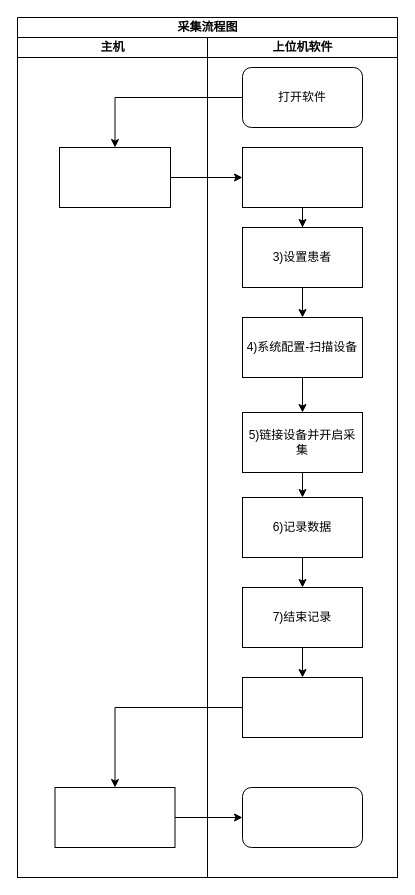
The diagram is 415 pixels wide and 895 high, and some of its shapes have lost their labels. The box of each missing label's shape, as (x1, y1, x2, y2) in pixels:
1)打开设备: (58, 146, 170, 208)
2)登录: (242, 146, 362, 208)
8)结束采集: (242, 676, 362, 738)
9)断开设备: (54, 786, 175, 848)
结束: (242, 786, 362, 848)
